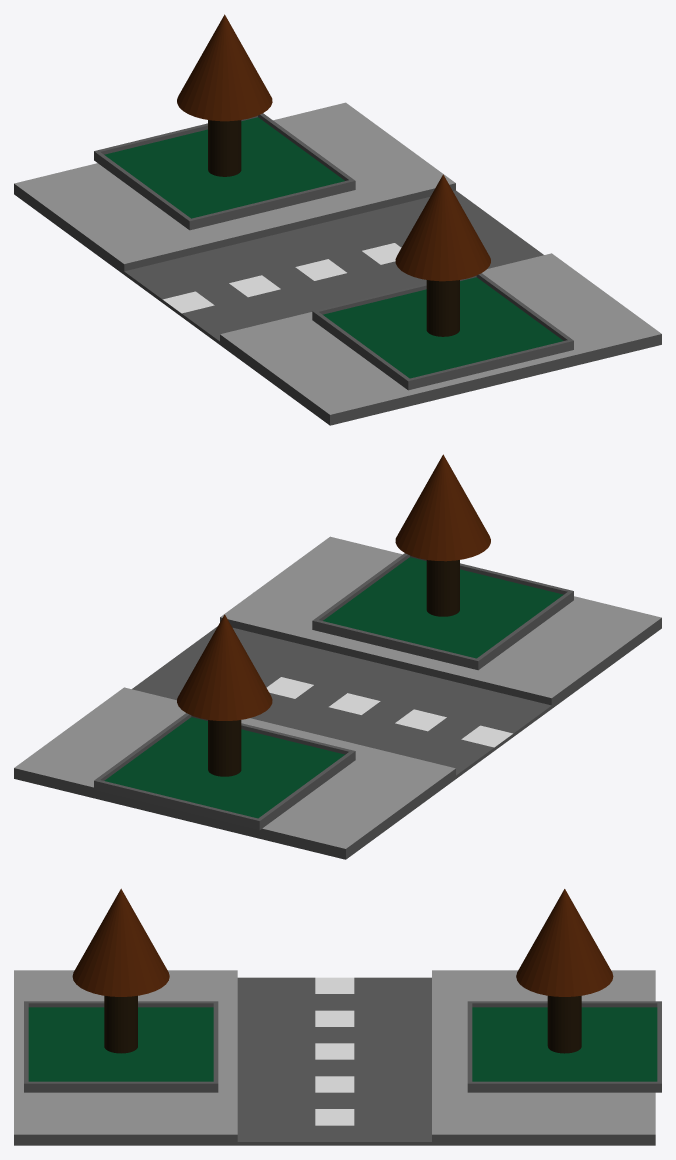
File: LowPolyCityPack.fbx
3 renders of one model, top to bottom at view 1: azimuth 30°, elevation 25°; view 2: azimuth 150°, elevation 25°; view 3: azimuth 270°, elevation 25°, orthographic.
Parts seen in each view (by area): view 1: Cube.001, Cube, Cube.002, Cone, Cone.001; view 2: Cube.001, Cube.002, Cube, Cone, Cone.001; view 3: Cube.001, Cube, Cube.002, Cone, Cone.001.
Boxes of the visible parts, x1=… form: Cube.001: x1=14, y1=102, x2=661, y2=425; Cube: x1=94, y1=113, x2=355, y2=230; Cube.002: x1=312, y1=273, x2=573, y2=390; Cone: x1=177, y1=14, x2=272, y2=176; Cone.001: x1=395, y1=174, x2=490, y2=336; Cube.001: x1=14, y1=536, x2=661, y2=859; Cube.002: x1=312, y1=553, x2=573, y2=670; Cube: x1=94, y1=713, x2=355, y2=830; Cone: x1=177, y1=614, x2=272, y2=776; Cone.001: x1=395, y1=454, x2=490, y2=616; Cube.001: x1=14, y1=970, x2=655, y2=1145; Cube: x1=467, y1=1001, x2=661, y2=1092; Cube.002: x1=24, y1=1001, x2=218, y2=1092; Cone: x1=516, y1=889, x2=613, y2=1053; Cone.001: x1=72, y1=888, x2=169, y2=1053.
Size of the model in its own units: 800 by 397 by 1333.
